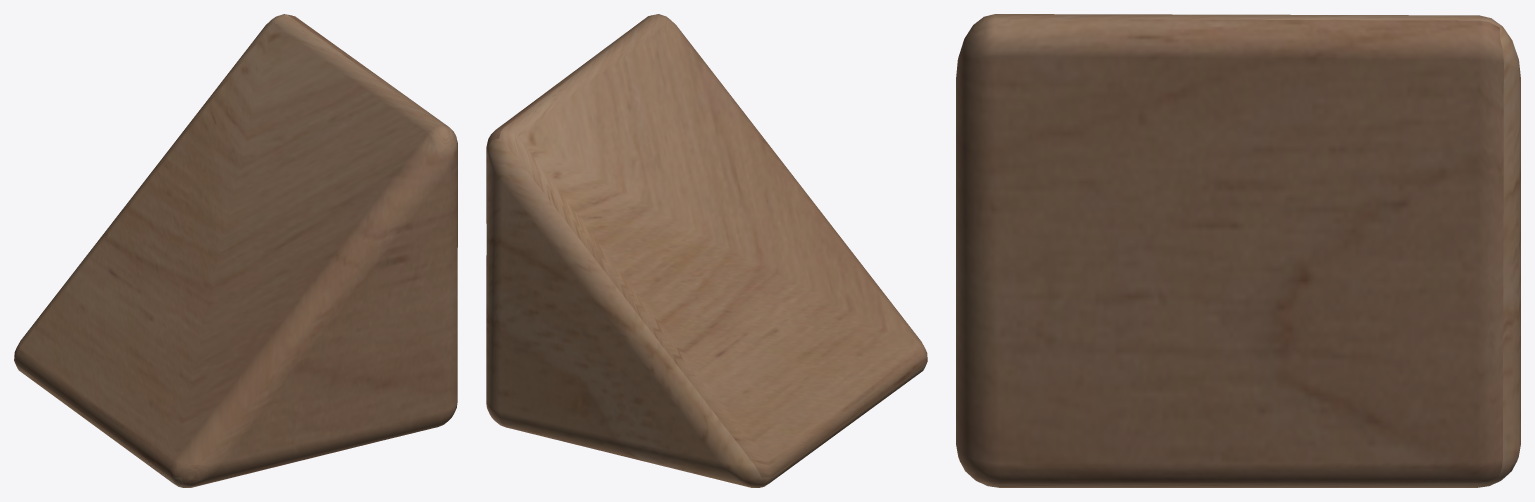
The model's file is wedge.glb.
3 views of the same model, side by side, from view 1: azimuth 30°, elevation 25°; view 2: azimuth 150°, elevation 25°; view 3: azimuth 270°, elevation 25° (orthographic). The views are drawn at different scales.
Parts seen in each view (by area): view 1: pasted__pasted__pasted__pasted__pCube3_pasted__pasted__paste; view 2: pasted__pasted__pasted__pasted__pCube3_pasted__pasted__paste; view 3: pasted__pasted__pasted__pasted__pCube3_pasted__pasted__paste.
Part boxes in pixels (x1,y1,x2,y2): pasted__pasted__pasted__pasted__pCube3_pasted__pasted__paste: (14, 14, 457, 487); pasted__pasted__pasted__pasted__pCube3_pasted__pasted__paste: (486, 14, 927, 487); pasted__pasted__pasted__pasted__pCube3_pasted__pasted__paste: (956, 14, 1520, 487).
Size of the model in its own units: 0.0647 by 0.0647 by 0.07.
Materials: 1 (1 with a texture image).
